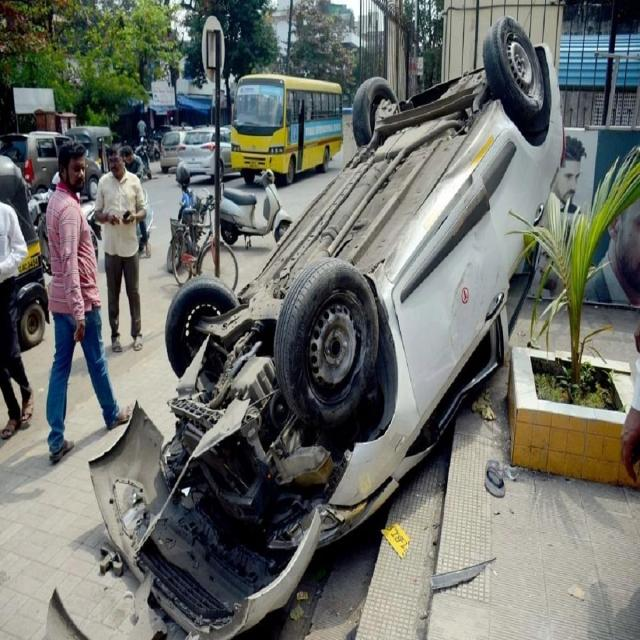accident: (90, 17, 562, 637)
autorickshaw: (0, 156, 50, 349)
bicycle: (171, 212, 215, 285), (220, 240, 238, 291)
bus: (231, 73, 342, 184)
car: (0, 131, 68, 192), (179, 128, 215, 176)
motorcycle: (220, 171, 291, 247)
